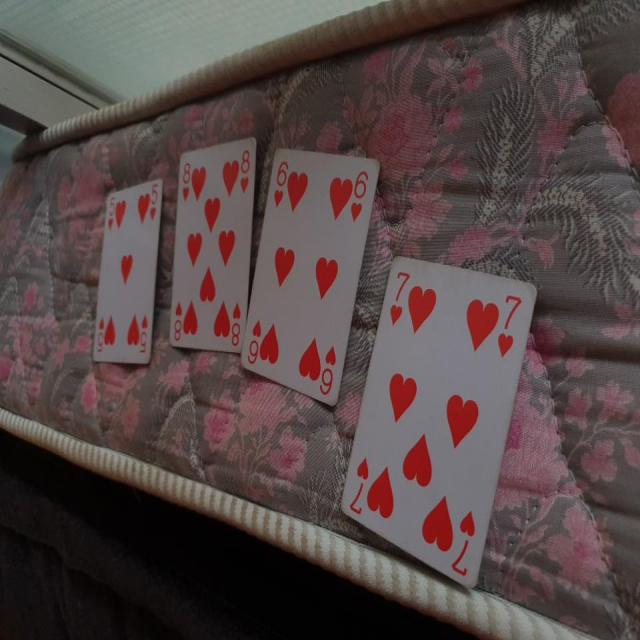5 Hearts: (92, 173, 163, 370)
6 Hearts: (235, 140, 386, 409)
7 Hearts: (342, 253, 540, 588)
8 Hearts: (164, 149, 262, 359)
